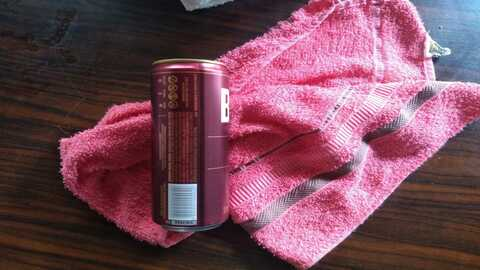duplo_malte: (147, 63, 230, 233)
